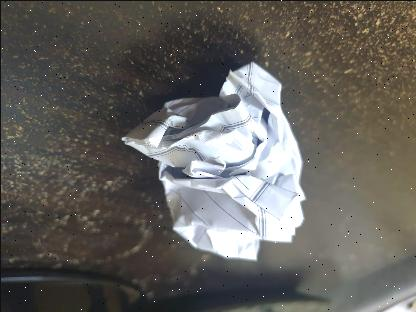Others: (117, 62, 305, 263)
